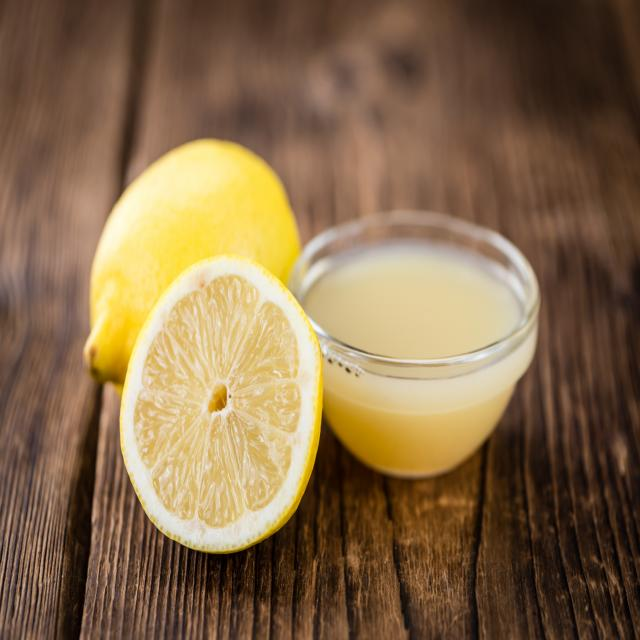lemon: (119, 309, 322, 558)
